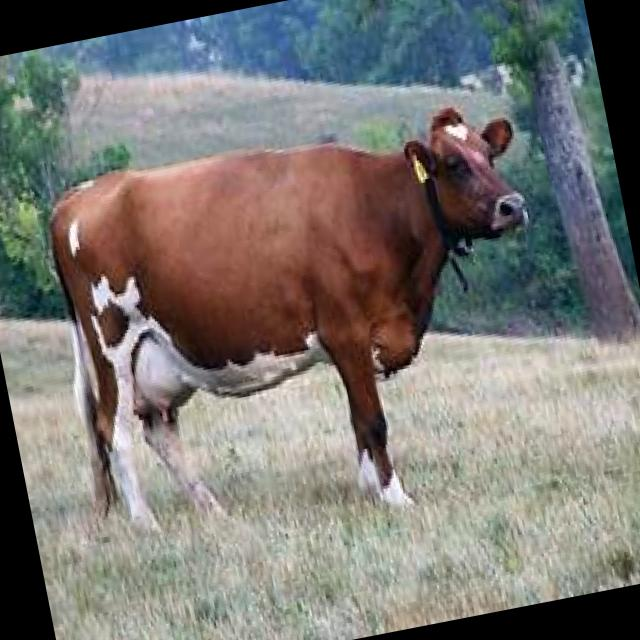animal: (23, 94, 578, 555)
